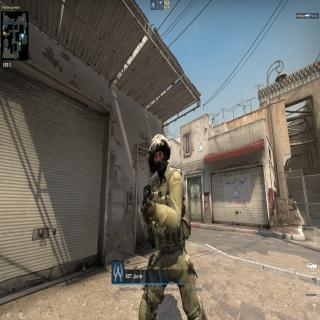CT-Head: (146, 133, 172, 175)
